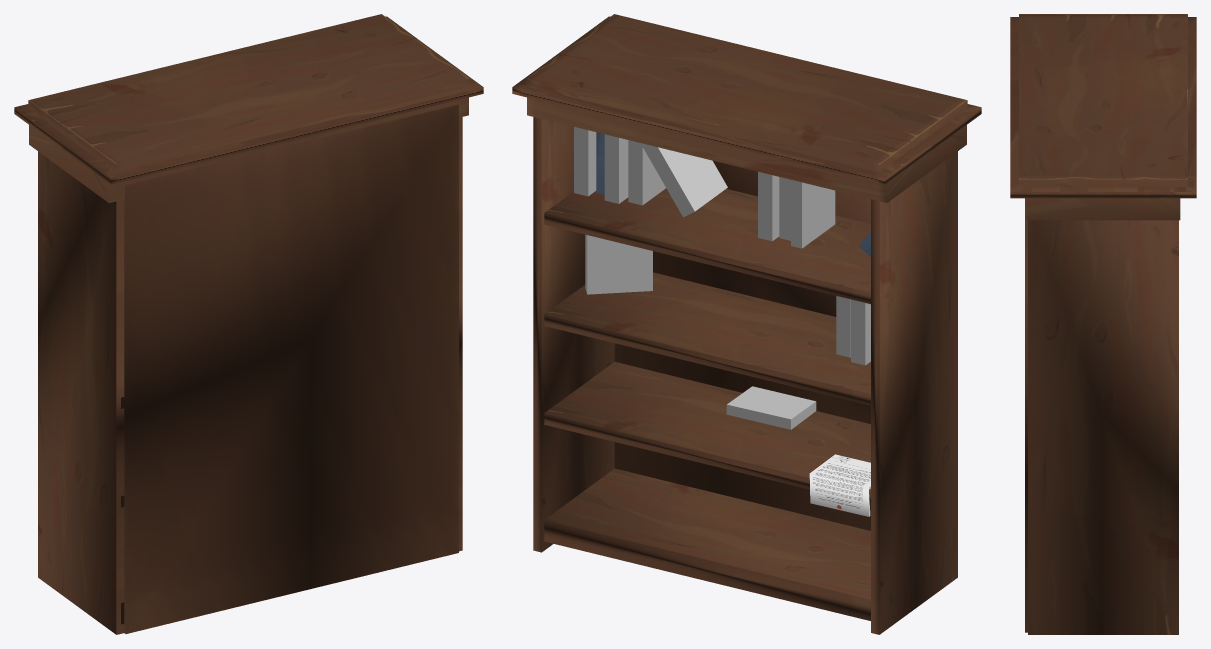
Rendered from Armario.fbx.
3 views of the same model, side by side, from view 1: azimuth 30°, elevation 25°; view 2: azimuth 150°, elevation 25°; view 3: azimuth 270°, elevation 25° (orthographic). The views are drawn at different scales.
Visible parts, largest first — view 1: Cube.040; view 2: Cube.040; view 3: Cube.040.
Boxes of the visible parts, x1,y1,x2,y2 form: Cube.040: [14, 14, 483, 634]; Cube.040: [512, 14, 981, 634]; Cube.040: [1010, 14, 1196, 634].
Size of the model in its own units: 344 by 419 by 155.
